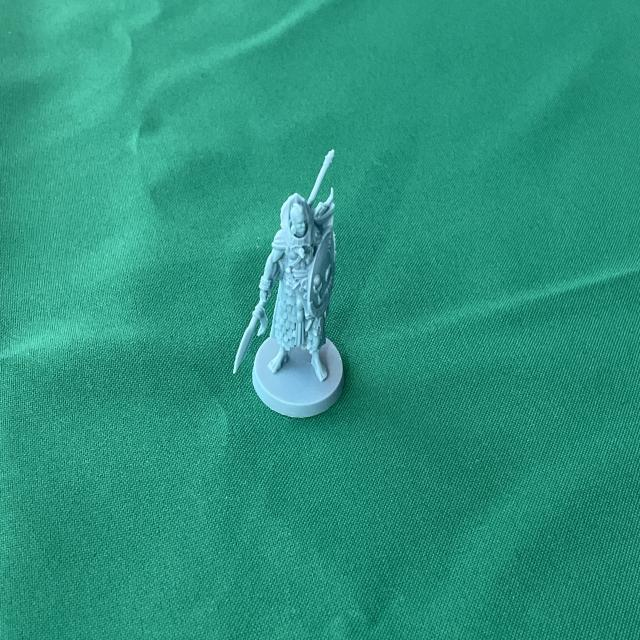isis_follower: (230, 141, 347, 423)
